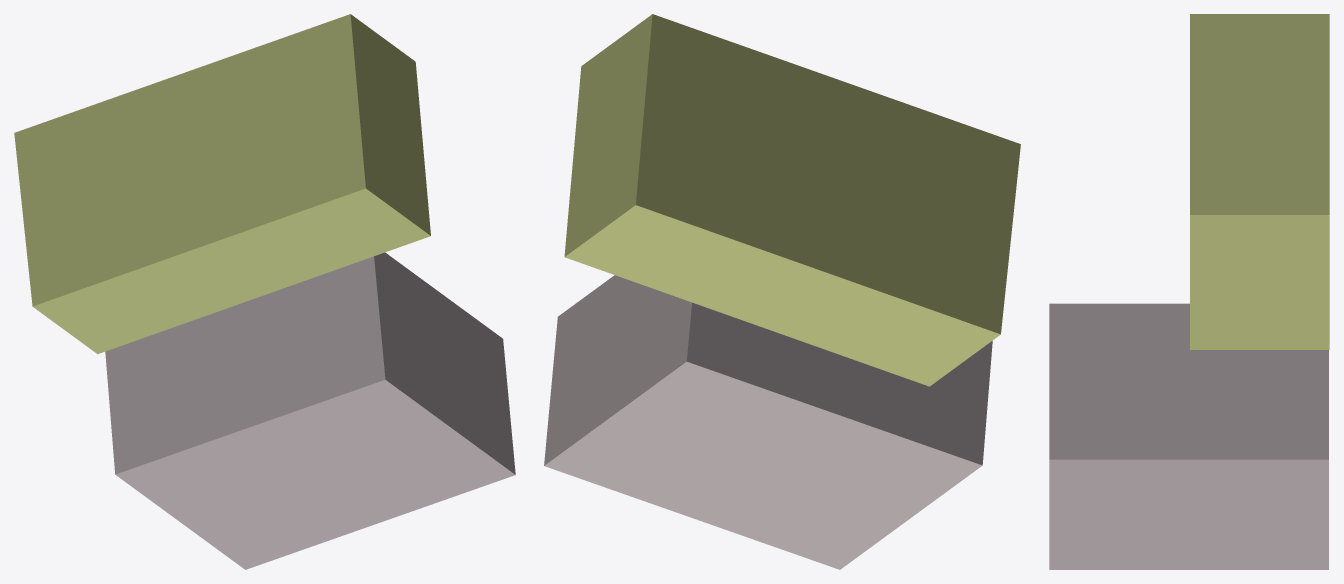
3 views of the same model, side by side, from view 1: azimuth 30°, elevation 25°; view 2: azimuth 150°, elevation 25°; view 3: azimuth 270°, elevation 25° (orthographic). The views are drawn at different scales.
Parts seen in each view (by area): view 1: 0_2_1_3_3_0_3_2_1_2; view 2: 0_2_1_3_3_0_3_2_1_2; view 3: 0_2_1_3_3_0_3_2_1_2.
Boxes of the visible parts, x1,y1,x2,y2 form: 0_2_1_3_3_0_3_2_1_2: (14, 14, 515, 569); 0_2_1_3_3_0_3_2_1_2: (544, 14, 1020, 569); 0_2_1_3_3_0_3_2_1_2: (1049, 14, 1329, 569).
Bounding box in the file's own units: 19.72 × 20.47 × 12.04.
